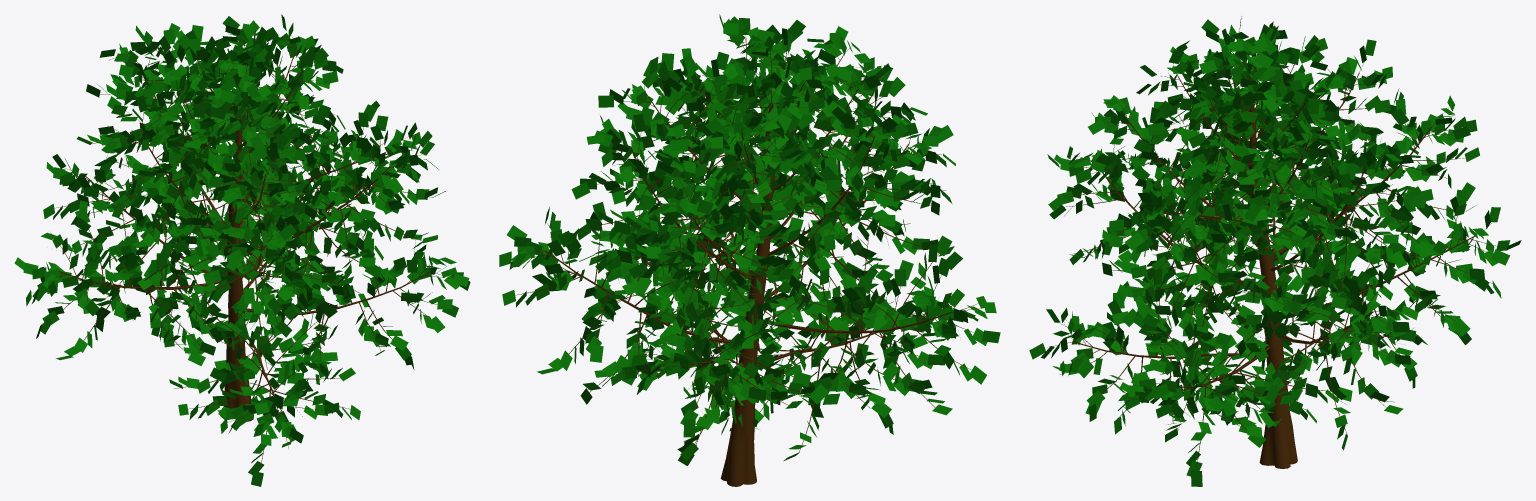
Rendered from American_elm.FBX.
3 views of the same model, side by side, from view 1: azimuth 30°, elevation 25°; view 2: azimuth 150°, elevation 25°; view 3: azimuth 270°, elevation 25° (orthographic). The views are drawn at different scales.
Parts seen in each view (by area): view 1: American_elm; view 2: American_elm; view 3: American_elm.
Boxes of the visible parts, x1,y1,x2,y2 form: American_elm: (14, 14, 470, 486); American_elm: (499, 14, 1000, 486); American_elm: (1029, 16, 1521, 486).
Size of the model in its own units: 449 by 433 by 458.
